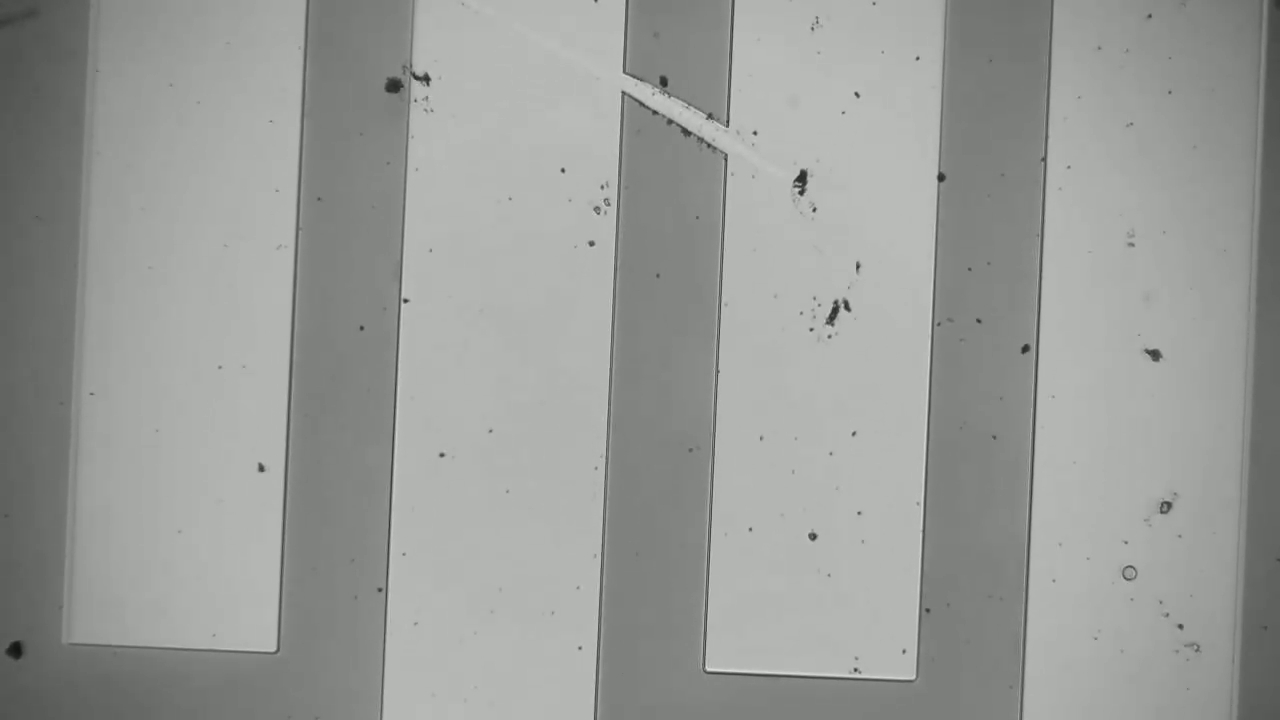Short_circuit: (601, 40, 764, 187)
